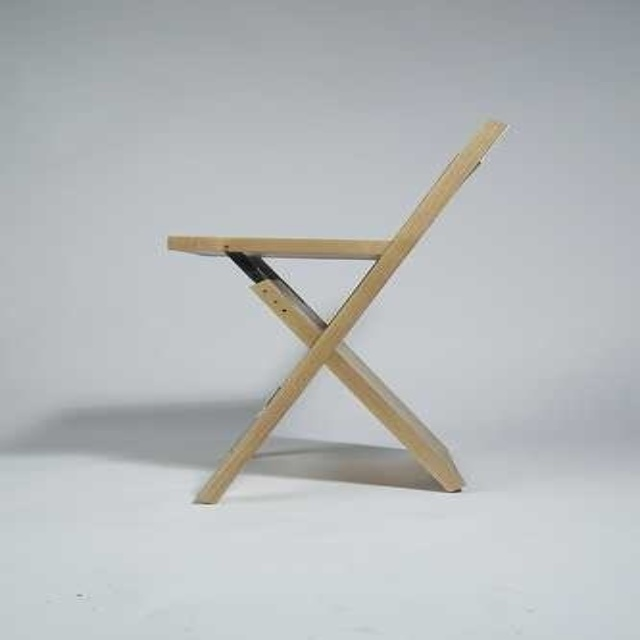obstacle: (167, 123, 505, 503)
